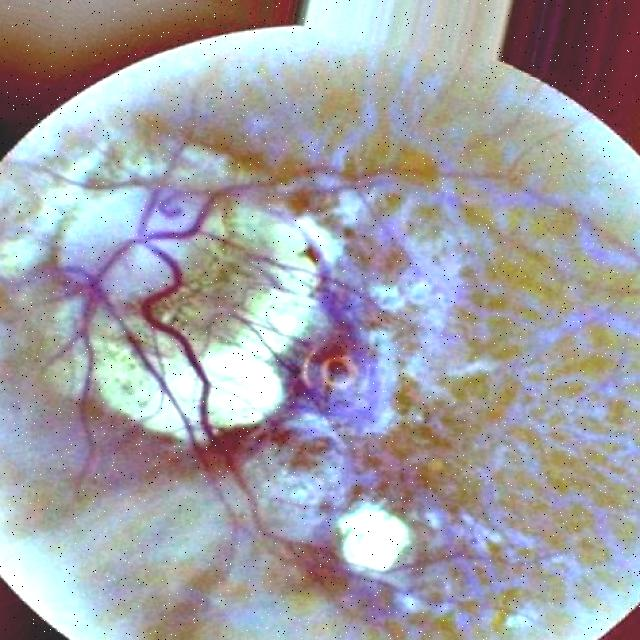Nerves: (27, 90, 356, 546)
Optic Disk: (61, 190, 212, 312)
